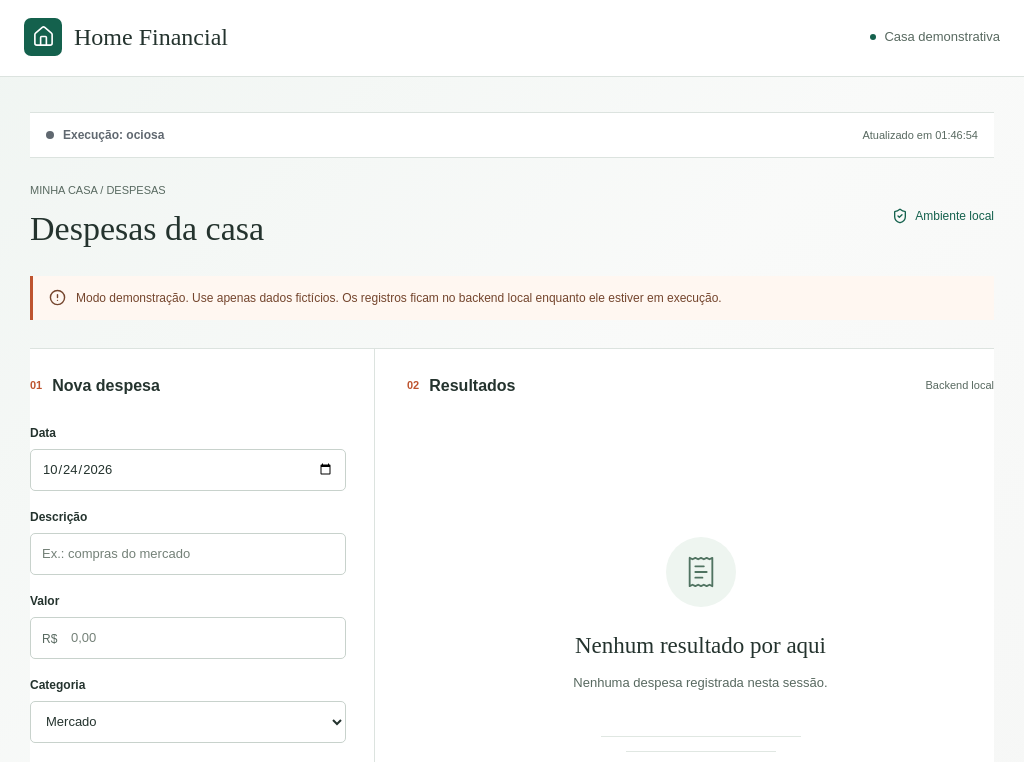
Scenario: form/run/results/history integration (AC-P0.3, P0.7 prototype) › rejects invalid BRL without starting a run
Type "2026-10-09" into the date field labelled "Data".
click(188, 470); type("2026-10-09")  # box [30,449,346,491]
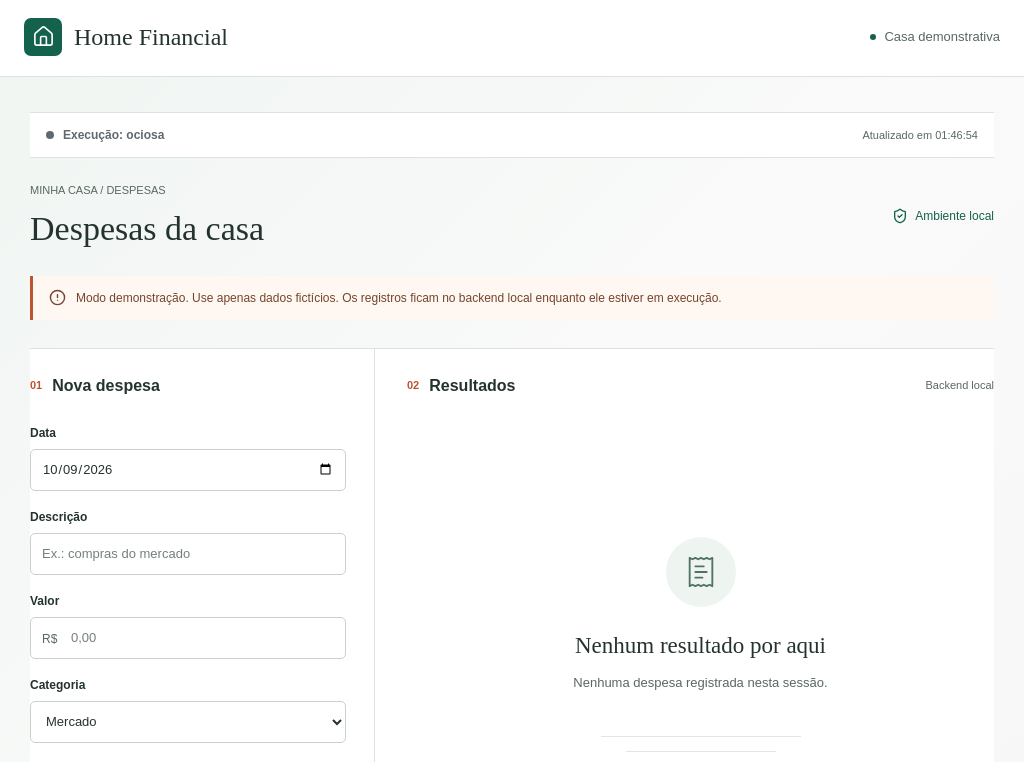
Type "Demo" into the field labelled "Descrição".
click(188, 554); type("Demo")  # box [30,533,346,575]
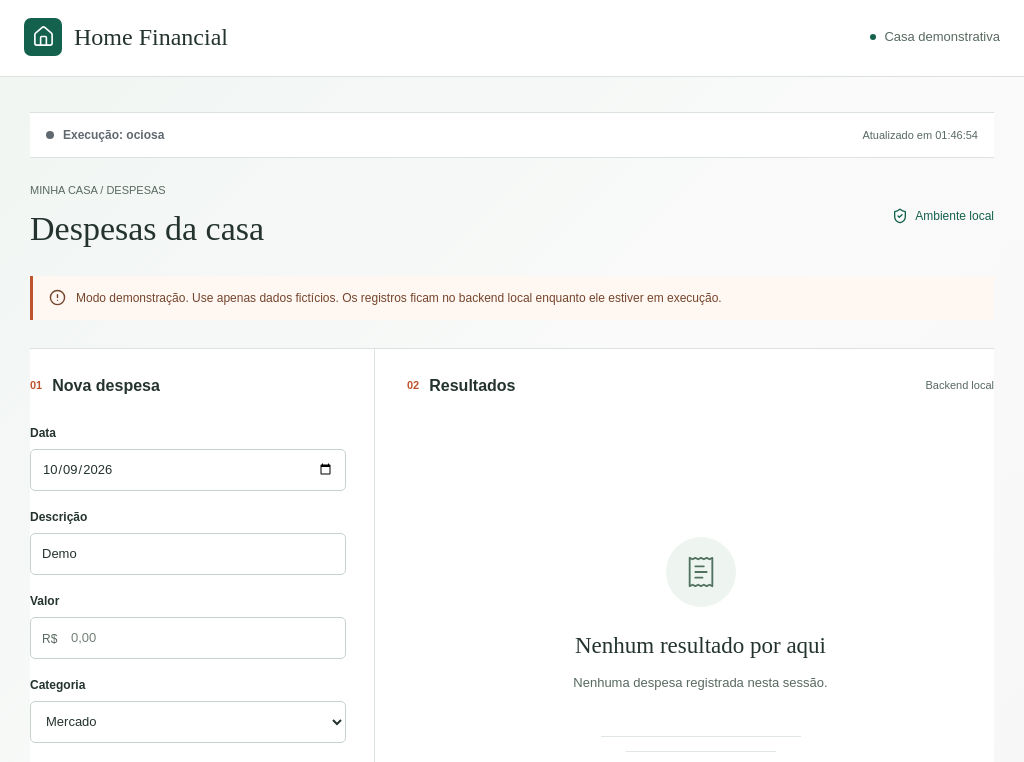
Type "0" into the field labelled "Valor".
click(188, 638); type("0")  # box [30,617,346,659]
(page scrolled)
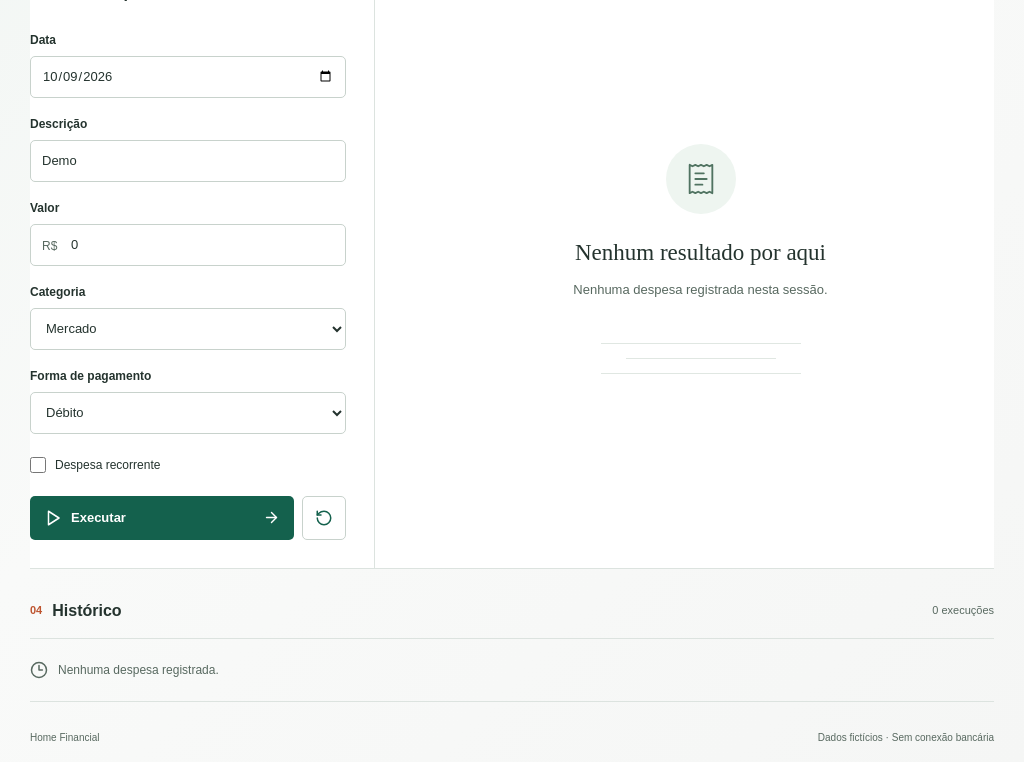
Click the button "Executar".
click(98, 517)  # box [30,496,294,540]
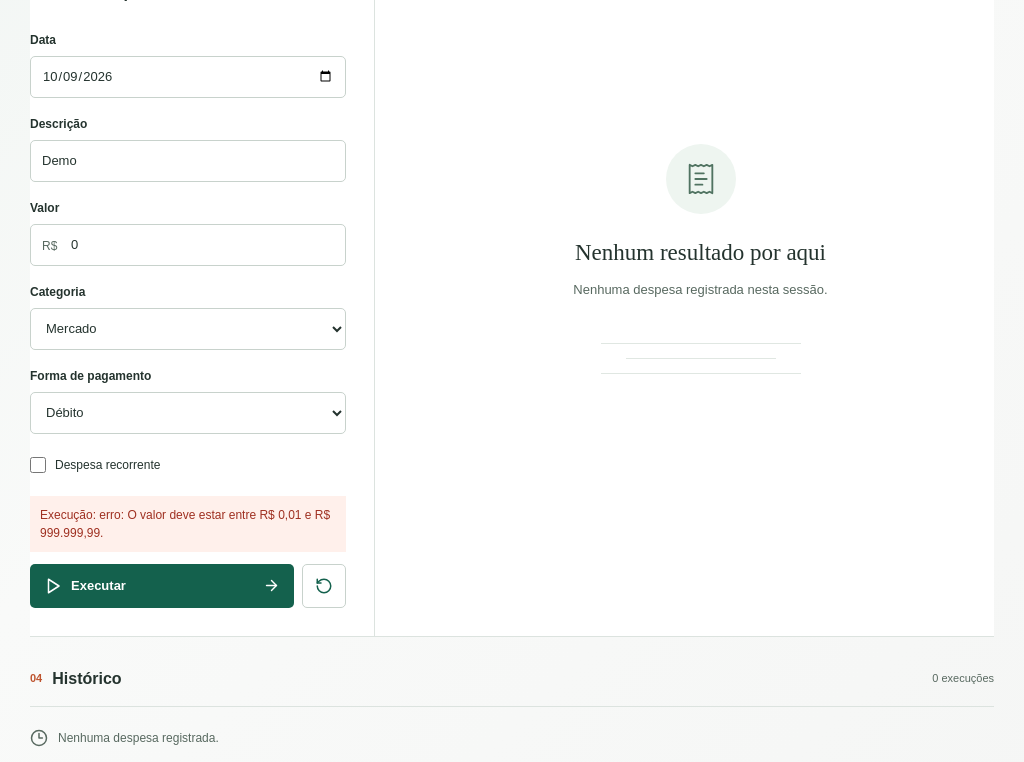
expect the message shows "O valor deve estar": met, box [40,508,330,540]
